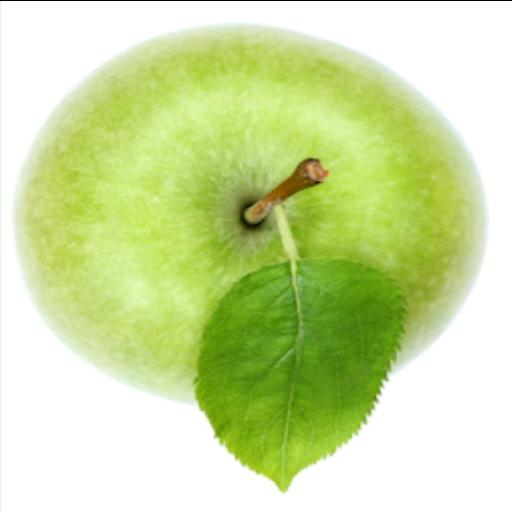apple: (16, 25, 485, 401)
